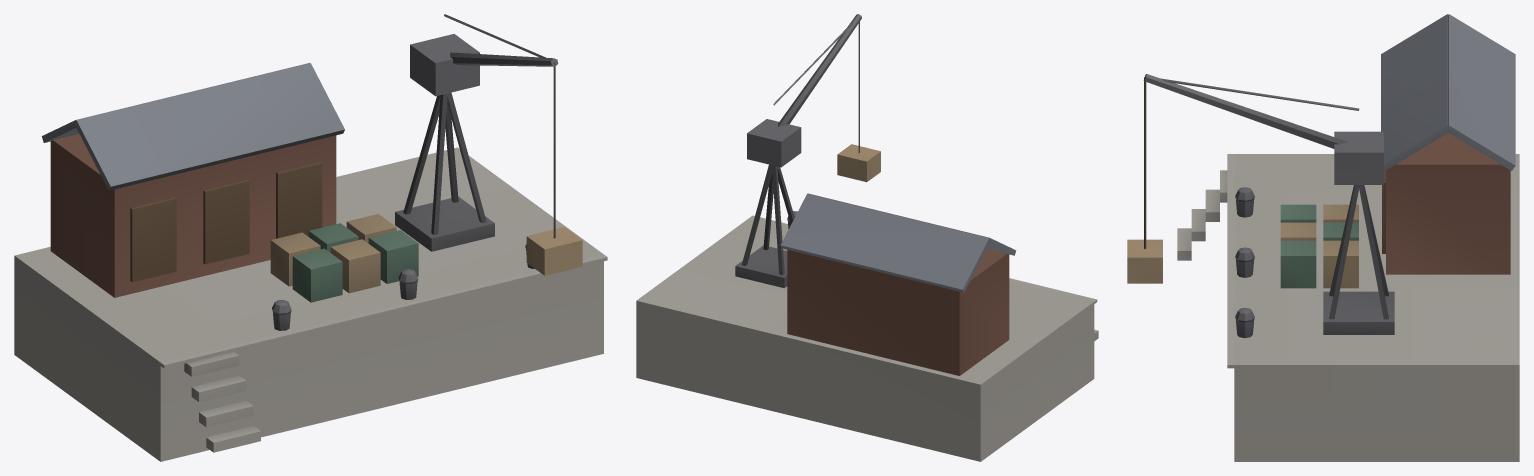
The model's file is quay_stone.glb.
The picture shows the model from 3 angles, left to right: view 1: azimuth 30°, elevation 25°; view 2: azimuth 150°, elevation 25°; view 3: azimuth 270°, elevation 25°; orthographic projection. The views are drawn at different scales.
Parts seen in each view (by area): view 1: Body; view 2: Body; view 3: Body.
Part boxes in pixels (x1,y1,x2,y2): Body: (14,14,607,461); Body: (636,14,1098,461); Body: (1127,14,1519,461).
Bounding box in the file's own units: 1.4 × 1.06 × 1.1.
